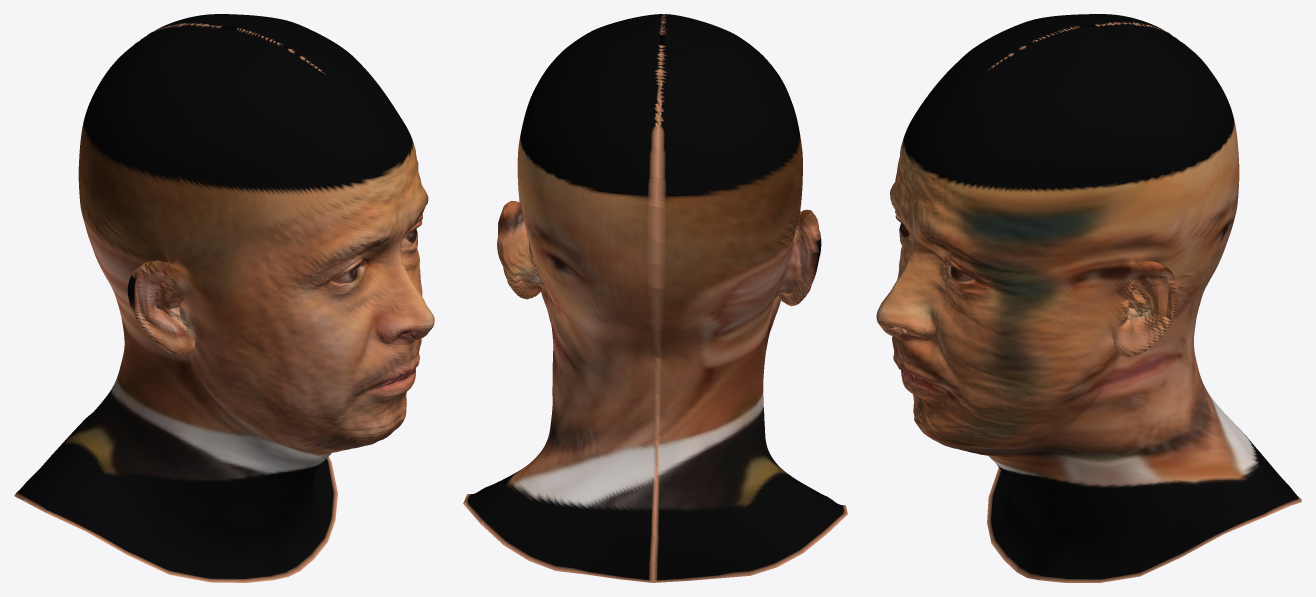
File: mesh_coarse_detail.obj
3 renders of one model, left to right at view 1: azimuth 30°, elevation 25°; view 2: azimuth 150°, elevation 25°; view 3: azimuth 270°, elevation 25°, orthographic.
Size of the model in its own units: 0.214 by 0.3271 by 0.2378.
